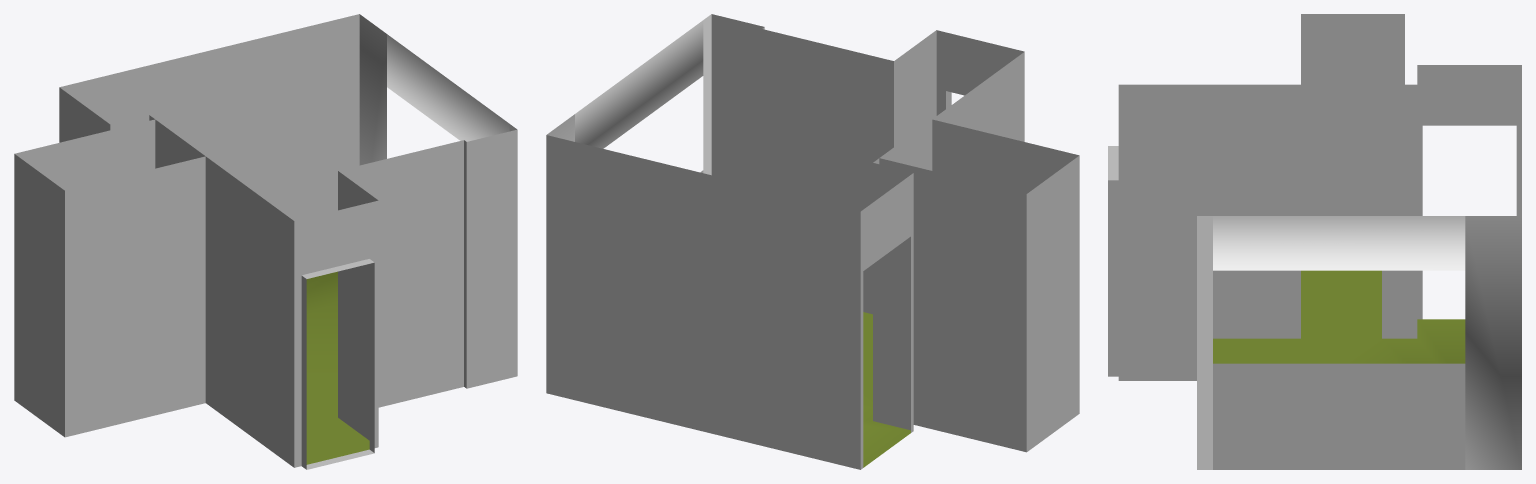
Rendered from kitchen_model.obj.
3 views of the same model, side by side, from view 1: azimuth 30°, elevation 25°; view 2: azimuth 150°, elevation 25°; view 3: azimuth 270°, elevation 25° (orthographic). The views are drawn at different scales.
Parts seen in each view (by area): view 1: kitchen; view 2: kitchen; view 3: kitchen.
Boxes of the visible parts, <box> form: kitchen: <box>14,14,517,469</box>; kitchen: <box>546,14,1079,469</box>; kitchen: <box>1108,14,1521,469</box>.
Bounding box in the file's own units: 0.0562 × 0.0329 × 0.0487.
